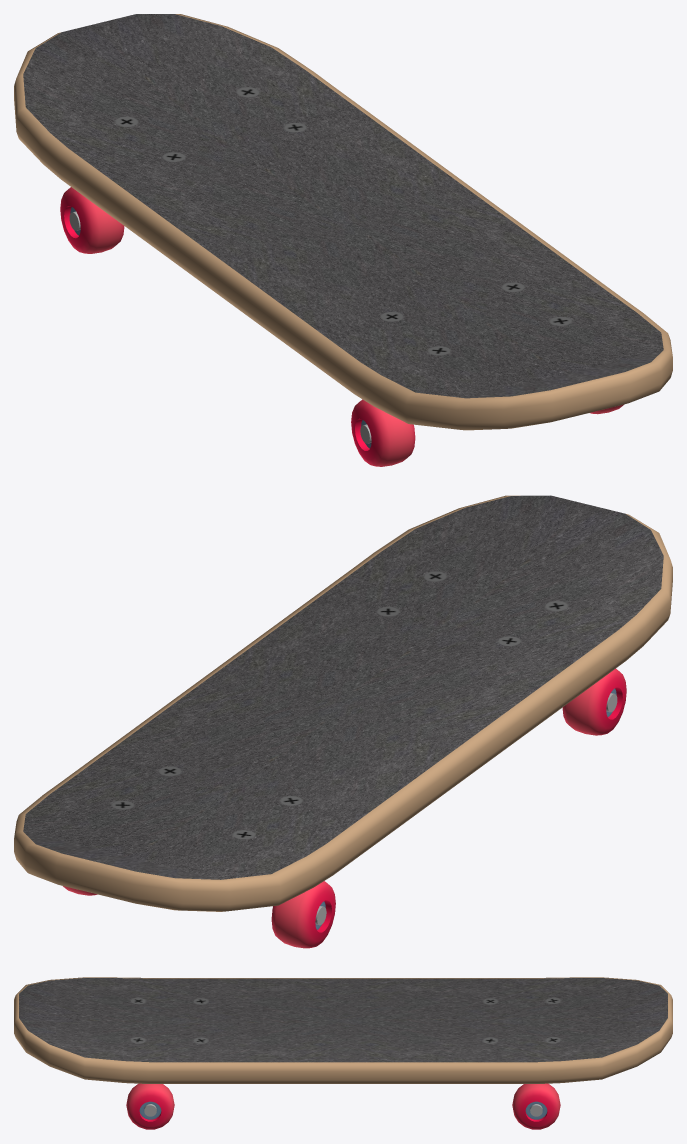
The model's file is Skateboard.FBX.
3 renders of one model, top to bottom at view 1: azimuth 30°, elevation 25°; view 2: azimuth 150°, elevation 25°; view 3: azimuth 270°, elevation 25°, orthographic. The views are drawn at different scales.
Visible parts, largest first — view 1: Skateboard, SkateboardWheel_FR, SkateboardWheel_BR; view 2: Skateboard, SkateboardWheel_BR, SkateboardWheel_FR; view 3: Skateboard, SkateboardWheel_BL, SkateboardWheel_FL.
Boxes of the visible parts, x1,y1,x2,y2 form: Skateboard: [14, 14, 672, 430]; SkateboardWheel_FR: [351, 399, 415, 466]; SkateboardWheel_BR: [60, 187, 124, 253]; Skateboard: [14, 495, 672, 911]; SkateboardWheel_BR: [271, 881, 335, 948]; SkateboardWheel_FR: [562, 668, 626, 735]; Skateboard: [14, 977, 672, 1083]; SkateboardWheel_BL: [512, 1083, 560, 1129]; SkateboardWheel_FL: [126, 1083, 174, 1129].
Bounding box in the file's own units: 17.72 × 7.86 × 55.12.
Materials: 1 (1 with a texture image).
